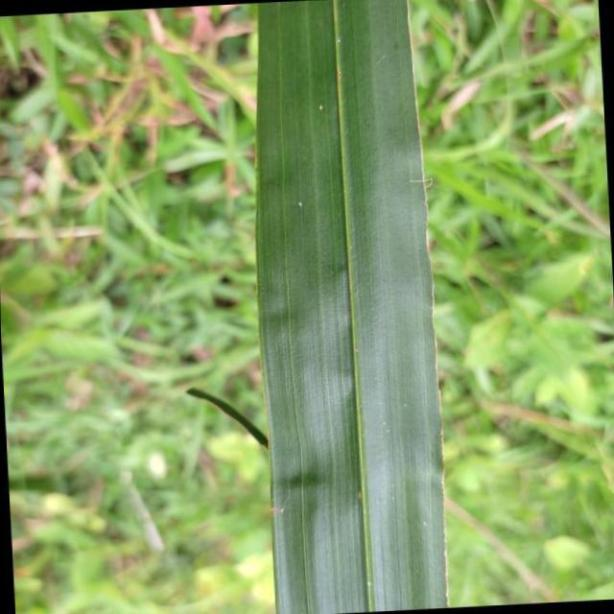Boron: (256, 6, 451, 614)
